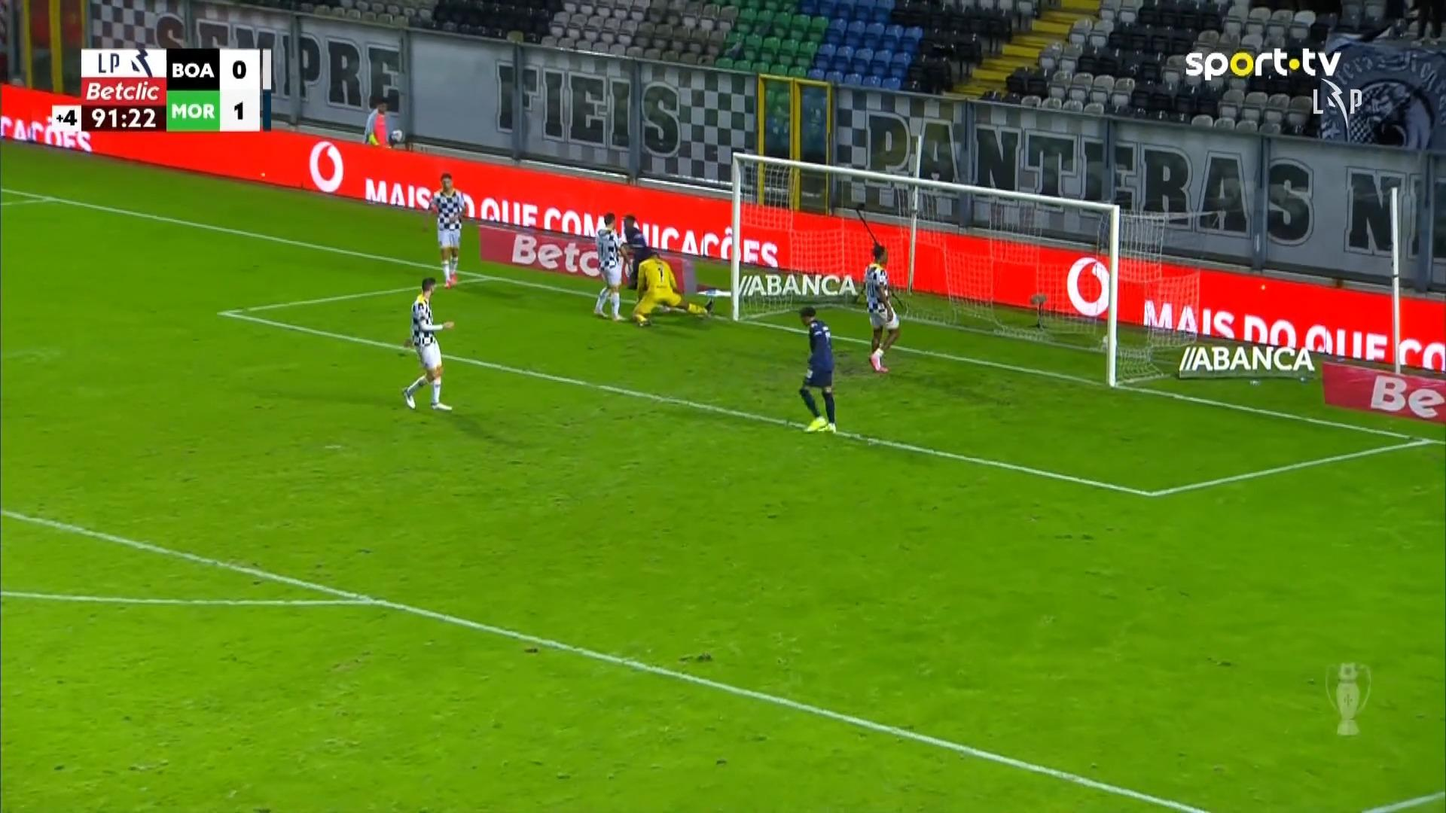goalkeeper: (630, 250, 713, 327)
player: (400, 276, 455, 411), (796, 305, 837, 433), (861, 242, 901, 373), (423, 172, 467, 288), (592, 212, 627, 321), (621, 213, 647, 289)
